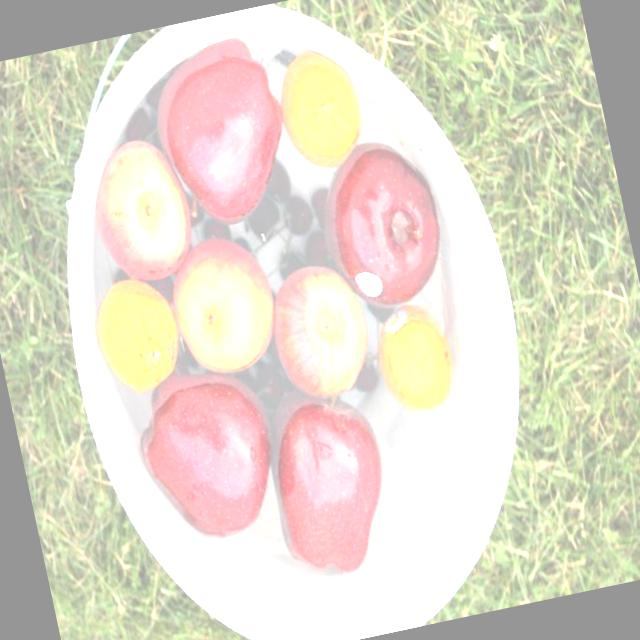Apple: (141, 32, 303, 234), (128, 356, 292, 548), (257, 378, 403, 582), (308, 132, 454, 318), (157, 228, 283, 386), (79, 136, 197, 292), (262, 256, 376, 402)
Orange: (87, 271, 189, 399), (270, 45, 370, 174), (370, 298, 462, 418)
